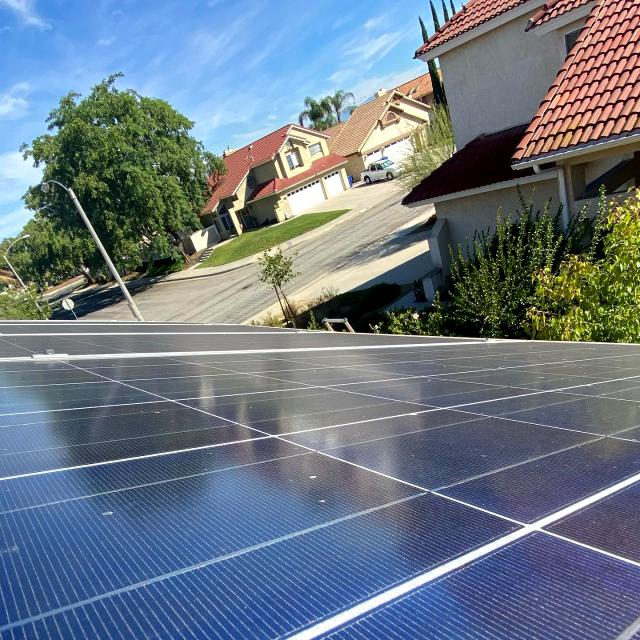dust: (208, 436, 528, 564), (0, 456, 163, 613)
